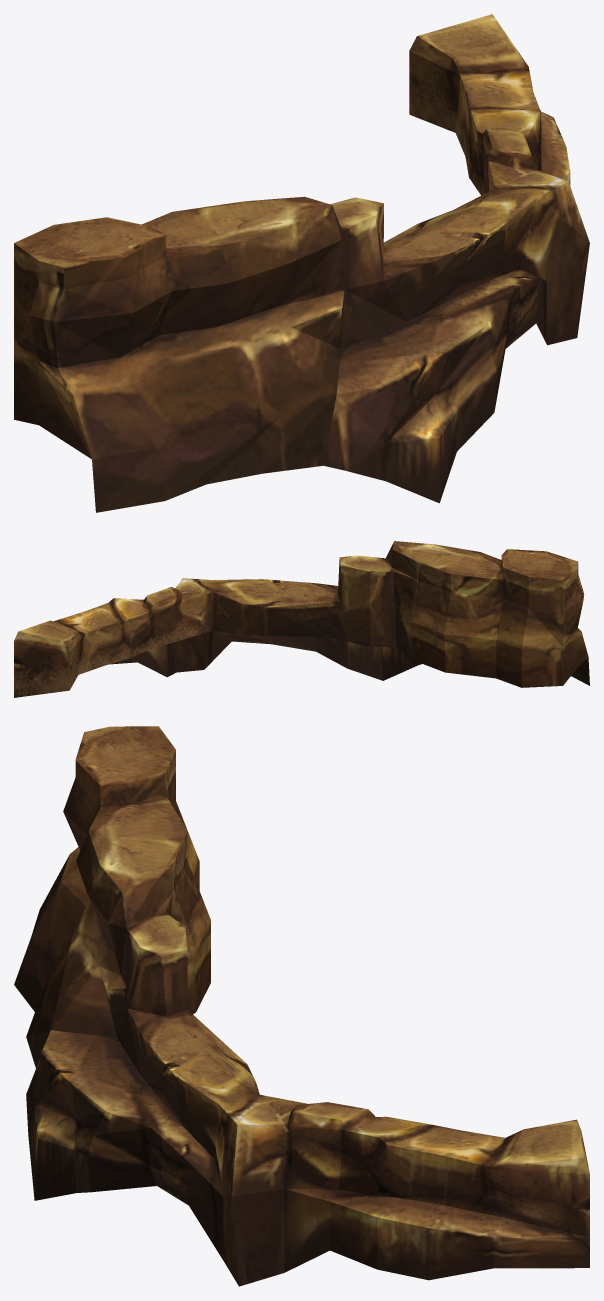
File: ShiTou08.FBX
3 views of the same model, one above another, from view 1: azimuth 30°, elevation 25°; view 2: azimuth 150°, elevation 25°; view 3: azimuth 270°, elevation 25° (orthographic). The views are drawn at different scales.
Parts seen in each view (by area): view 1: ShiTou08; view 2: ShiTou08; view 3: ShiTou08.
Boxes of the visible parts, <box> form: ShiTou08: <box>14,14,589,512</box>; ShiTou08: <box>14,541,589,697</box>; ShiTou08: <box>14,726,589,1286</box>.
Size of the model in its own units: 601 by 242 by 422.
